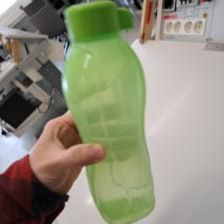bottle: (62, 0, 155, 224)
